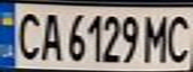1: (84, 11, 106, 63)
2: (103, 11, 124, 63)
6: (63, 10, 87, 62)
9: (118, 11, 145, 64)
A: (36, 9, 63, 62)
C: (9, 8, 45, 62), (163, 10, 193, 64)
M: (139, 11, 175, 64)
